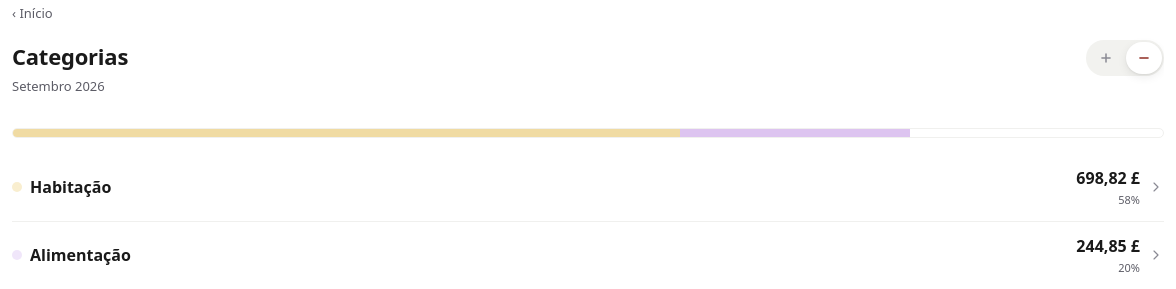
Test case: Página de detalhe de categorias › clicar em "+" troca para a lista de Entradas
The width and height of the screenshot is (1176, 289).
Expected: the text "Habitação" is shown, [30,176,111,198]
What coordinates should you click on to do the following:
click the button named "Entradas"
I would click on:
 (1106, 58)
Its box is [1088,42,1124,74].
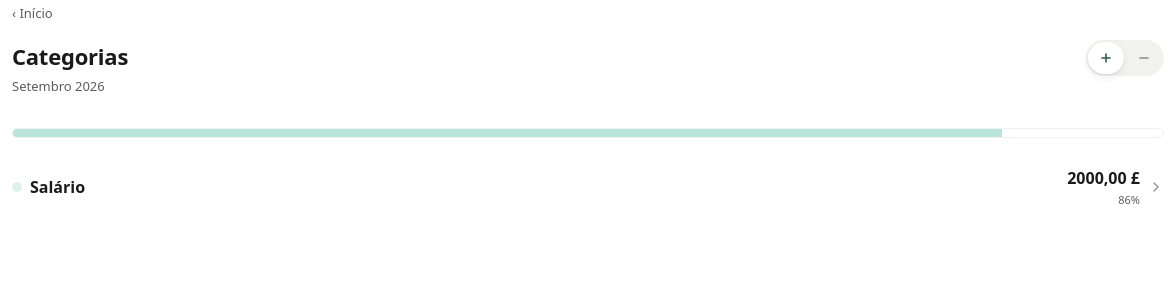
Expected: the text "Salário" is shown, [30,176,85,198]
Expected: the link "Habitação" is gone
